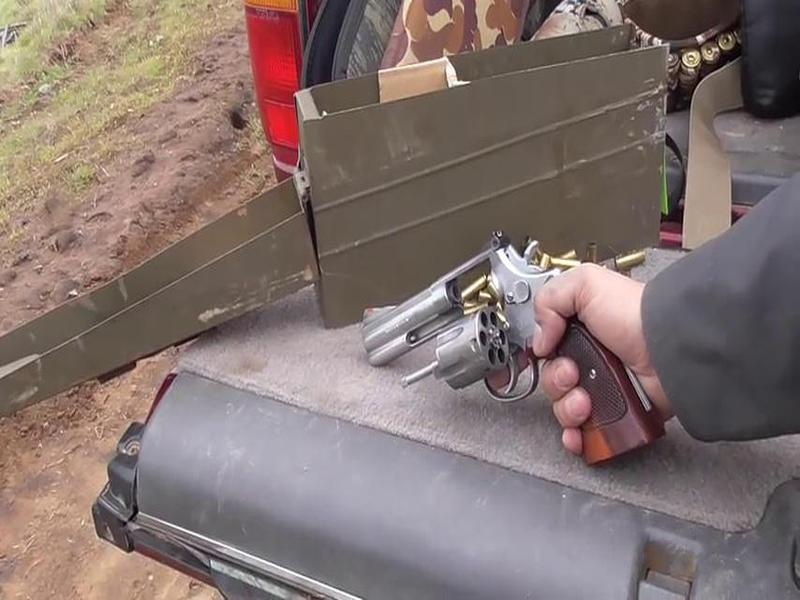Revolver: (355, 231, 694, 494)
